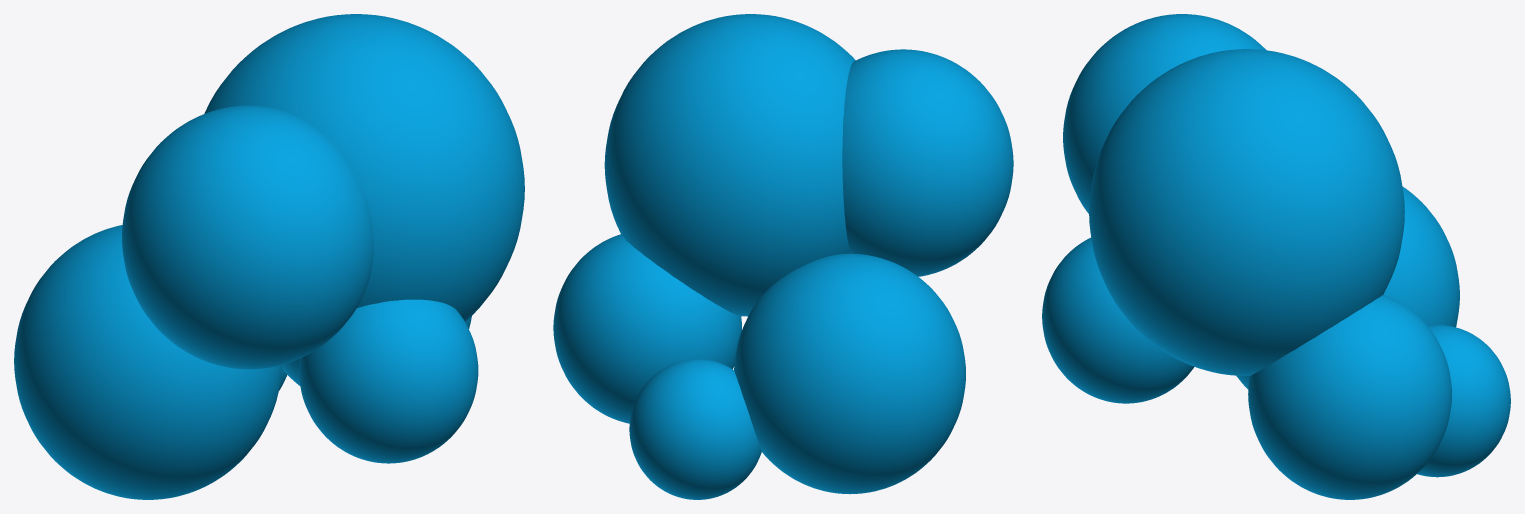
Rendered from br-m-balls-blue.fbx.
3 renders of one model, left to right at view 1: azimuth 30°, elevation 25°; view 2: azimuth 150°, elevation 25°; view 3: azimuth 270°, elevation 25°, orthographic. The views are drawn at different scales.
Visible parts, largest first — view 1: pSphere4, pSphere2, pSphere5, pSphere8; view 2: pSphere2, pSphere5, pSphere4, pSphere3, pSphere6; view 3: pSphere2, pSphere3, pSphere8, pSphere4, pSphere6, pSphere5.
Boxes of the visible parts, box(x1,y1,x2,y2) form: pSphere4: box(122, 105, 373, 369); pSphere2: box(204, 14, 524, 321); pSphere5: box(14, 225, 281, 499); pSphere8: box(299, 299, 478, 463); pSphere2: box(604, 14, 855, 316); pSphere5: box(734, 253, 965, 494); pSphere4: box(842, 49, 1013, 276); pSphere3: box(553, 234, 741, 423); pSphere6: box(629, 359, 761, 499); pSphere2: box(1089, 49, 1404, 375); pSphere3: box(1248, 294, 1451, 499); pSphere8: box(1042, 237, 1194, 403); pSphere4: box(1063, 14, 1266, 213); pSphere6: box(1417, 325, 1510, 477); pSphere5: box(1236, 186, 1459, 389).
Bounding box in the file's own units: 0.9986 × 0.9976 × 0.994.
